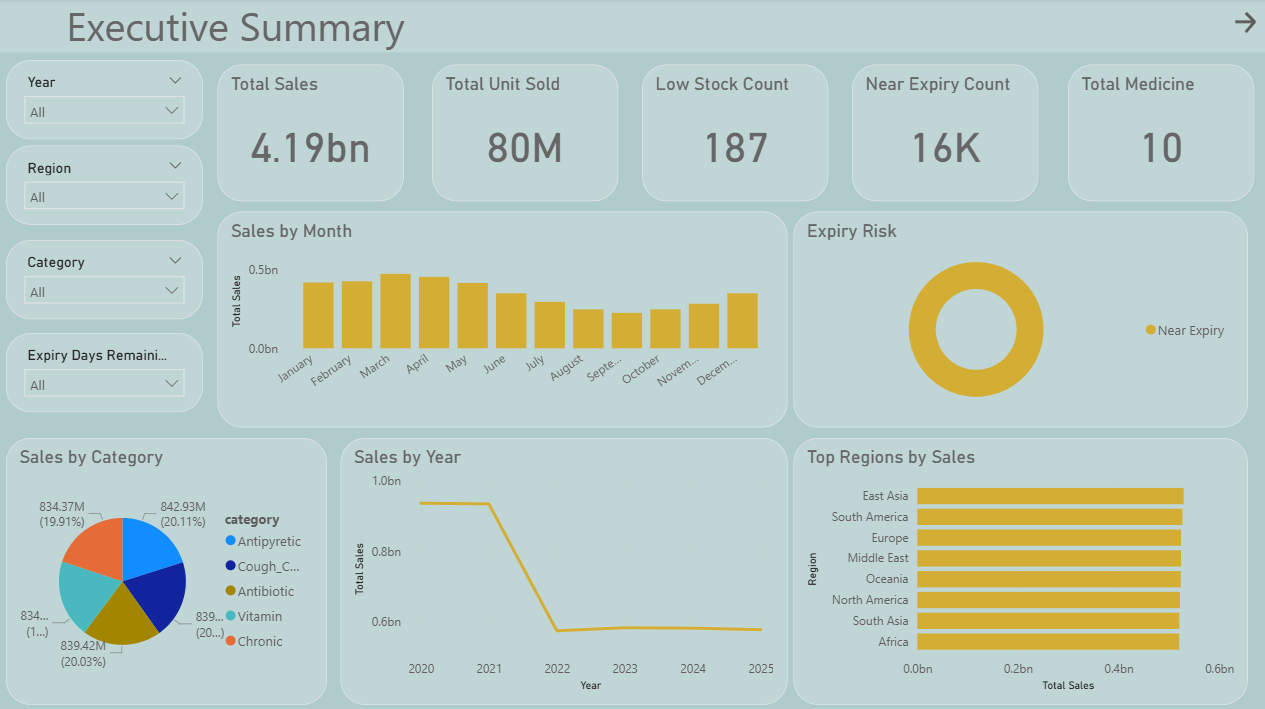

This screenshot's page, from the dashboard's own definition file:
{"tool":"powerbi","page":{"name":"Executive Summary","canvas":[1280,720],"ordinal":0},"visuals":[{"type":"cardVisual","fields":{"Data":["Sum(global_pharmacy_sales_2020_2025.units_sold)"]},"box":[413.4,72.7,207.4,204.4],"z":0},{"type":"textbox","box":[0,0,1279.5,51.5],"z":1000},{"type":"cardVisual","fields":{"Data":["global_pharmacy_sales_2020_2025.Total Sales"]},"box":[198.4,72.7,207.4,204.4],"z":2000},{"type":"cardVisual","fields":{"Data":["global_pharmacy_sales_2020_2025.Total Medicine"]},"box":[640.5,71.2,207.4,204.4],"z":3000},{"type":"cardVisual","fields":{"Data":["global_pharmacy_sales_2020_2025.Low Stock Count"]},"box":[854,69.7,207.4,205.9],"z":4000},{"type":"cardVisual","fields":{"Data":["global_pharmacy_sales_2020_2025.Near Expiry"]},"box":[1072.1,68.1,207.4,205.9],"z":5000},{"type":"lineChart","title":"  Sales Trend","fields":{"Category":["global_pharmacy_sales_2020_2025.year"],"Y":["global_pharmacy_sales_2020_2025.Total Sales"]},"box":[334.6,292.2,478.5,427],"z":6000},{"type":"pieChart","title":"Sales by Category","fields":{"Category":["global_pharmacy_sales_2020_2025.category"],"Y":["global_pharmacy_sales_2020_2025.Total Sales"]},"box":[0,363.4,324,355.8],"z":7000},{"type":"barChart","title":"Top Regions by Sales","fields":{"Category":["global_pharmacy_sales_2020_2025.region"],"Y":["global_pharmacy_sales_2020_2025.Total Sales"]},"box":[828.3,292.2,440.6,427],"z":8000},{"type":"slicer","fields":{"Values":["global_pharmacy_sales_2020_2025.year"]},"box":[0,68.1,198.4,77.2],"z":9000},{"type":"slicer","fields":{"Values":["global_pharmacy_sales_2020_2025.region"]},"box":[0,149.9,196.8,116.6],"z":10000},{"type":"slicer","fields":{"Values":["global_pharmacy_sales_2020_2025.category"]},"box":[0,274.1,198.4,83.3],"z":11000}]}

Visuals, with their boxes in screenshot pixels (x1, y1, x2, y2), scaled from the page's 1280x720 canvas onto the 1265x709 screenshot:
cardVisual - Sum(global_pharmacy_sales_2020_2025.units_sold): (409, 72, 614, 273)
textbox: (0, 0, 1264, 51)
cardVisual - global_pharmacy_sales_2020_2025.Total Sales: (196, 72, 401, 273)
cardVisual - global_pharmacy_sales_2020_2025.Total Medicine: (633, 70, 838, 271)
cardVisual - global_pharmacy_sales_2020_2025.Low Stock Count: (844, 69, 1049, 271)
cardVisual - global_pharmacy_sales_2020_2025.Near Expiry: (1060, 67, 1264, 270)
"  Sales Trend" lineChart: (331, 288, 804, 708)
"Sales by Category" pieChart: (0, 358, 320, 708)
"Top Regions by Sales" barChart: (819, 288, 1254, 708)
slicer - global_pharmacy_sales_2020_2025.year: (0, 67, 196, 143)
slicer - global_pharmacy_sales_2020_2025.region: (0, 148, 194, 262)
slicer - global_pharmacy_sales_2020_2025.category: (0, 270, 196, 352)
